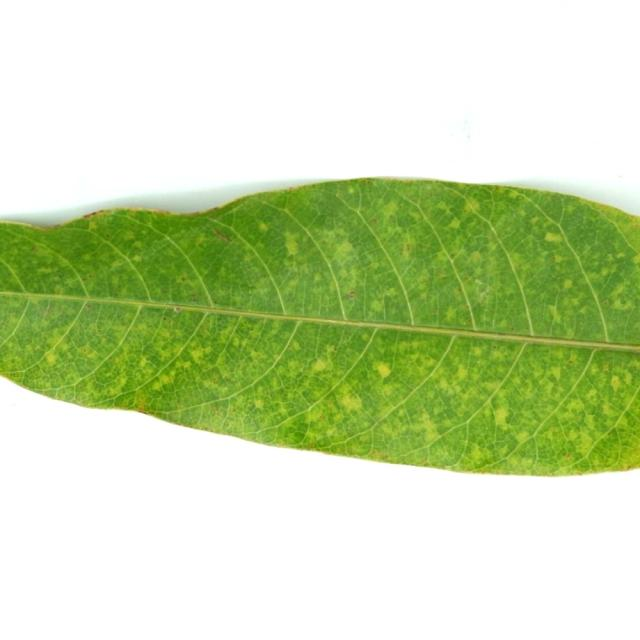Mango: (0, 179, 639, 475)
Powdery_Mildew: (306, 227, 354, 266), (85, 207, 172, 219), (413, 412, 442, 438), (314, 289, 340, 315), (28, 385, 70, 401), (282, 229, 303, 255), (373, 357, 396, 379), (611, 291, 635, 312), (338, 392, 359, 409), (155, 371, 176, 388), (380, 201, 399, 219), (578, 431, 594, 451), (493, 407, 509, 426), (112, 374, 129, 391), (468, 444, 485, 461), (595, 203, 619, 215), (311, 358, 330, 373), (188, 347, 207, 362), (547, 304, 562, 322), (381, 178, 425, 184), (484, 381, 504, 394), (307, 409, 324, 424), (538, 467, 565, 476), (547, 365, 563, 380), (442, 309, 458, 324), (464, 199, 481, 213), (567, 400, 584, 414), (353, 178, 382, 186), (477, 285, 491, 301), (455, 364, 468, 381), (469, 250, 483, 265), (544, 231, 563, 242), (514, 431, 530, 444), (213, 230, 230, 242), (493, 329, 516, 337), (44, 351, 57, 365), (369, 300, 383, 313), (573, 467, 595, 475), (611, 375, 622, 389), (447, 219, 461, 230), (82, 211, 103, 218), (257, 221, 269, 233), (138, 358, 150, 370), (41, 305, 53, 317), (436, 202, 450, 212), (253, 398, 265, 409), (562, 279, 573, 290), (289, 339, 300, 350), (231, 337, 241, 348), (633, 218, 640, 233), (131, 255, 143, 263), (137, 404, 147, 413), (624, 463, 636, 470), (472, 324, 480, 334), (49, 223, 63, 228), (347, 186, 355, 194), (327, 346, 336, 353), (211, 374, 218, 383), (602, 364, 610, 371), (83, 347, 91, 354), (475, 279, 483, 286), (565, 453, 572, 460), (350, 292, 356, 300), (174, 306, 182, 312), (188, 295, 196, 301), (411, 197, 419, 203), (381, 453, 389, 459), (422, 459, 430, 465), (211, 407, 217, 414), (551, 255, 557, 262), (568, 359, 575, 365), (162, 326, 169, 332), (549, 427, 555, 434), (371, 449, 378, 455), (31, 247, 38, 253), (370, 218, 377, 224), (494, 186, 501, 192), (467, 318, 473, 324), (231, 407, 237, 413), (449, 254, 455, 260), (456, 287, 462, 293), (463, 276, 469, 282), (329, 402, 335, 408), (431, 309, 437, 315), (161, 287, 167, 293), (406, 244, 411, 251), (248, 285, 255, 290), (375, 419, 380, 426), (201, 327, 206, 334), (288, 186, 295, 191), (86, 274, 94, 278), (85, 305, 91, 310), (308, 441, 314, 446), (604, 301, 610, 306), (211, 299, 217, 304), (181, 276, 186, 281), (466, 305, 471, 310), (163, 317, 168, 322), (493, 345, 498, 350), (510, 326, 515, 331)
